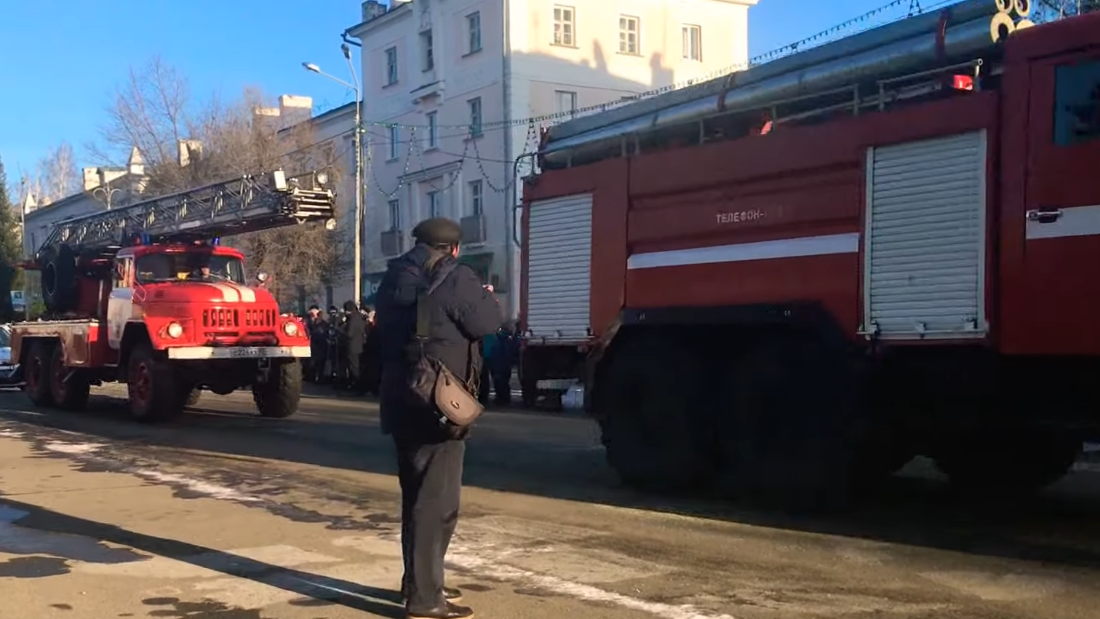fire fighting vehicle: (516, 3, 1100, 517), (8, 164, 329, 423)
